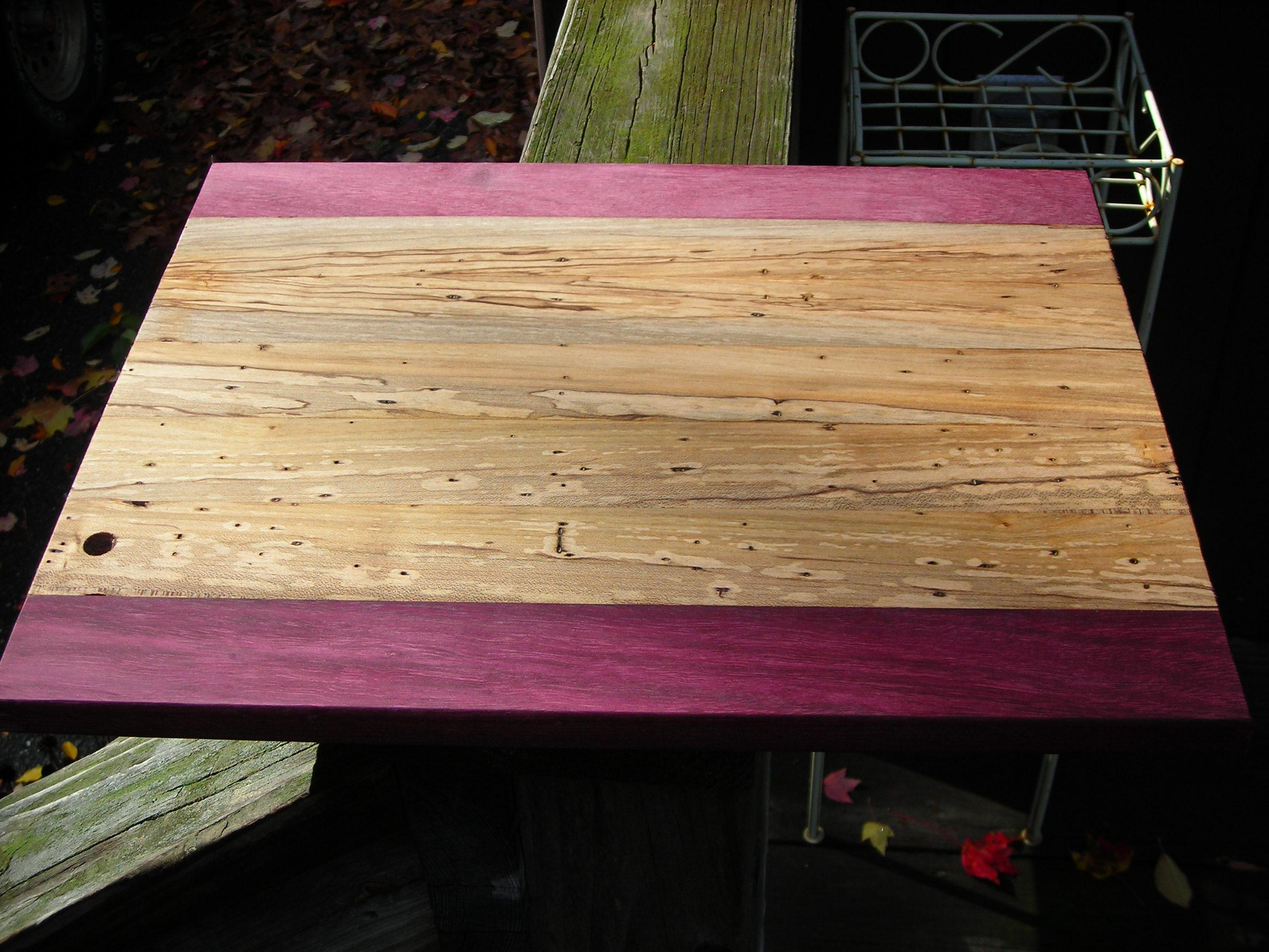gloved_hand: (0, 143, 1269, 757)
